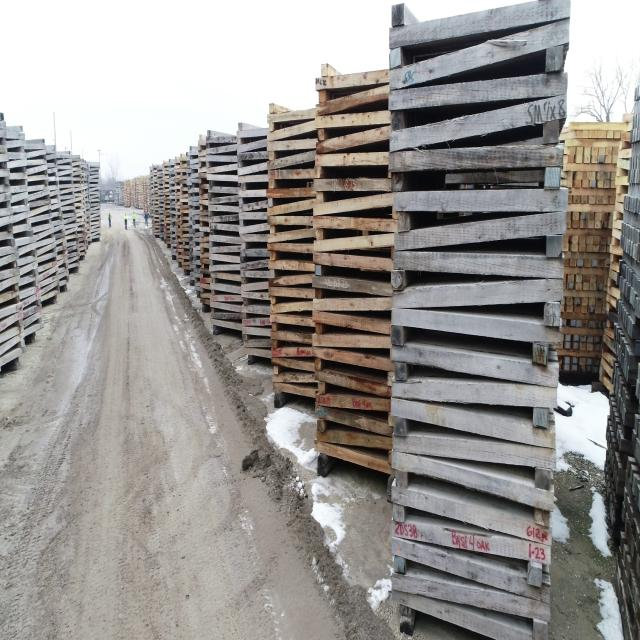stack: (389, 12, 565, 640)
